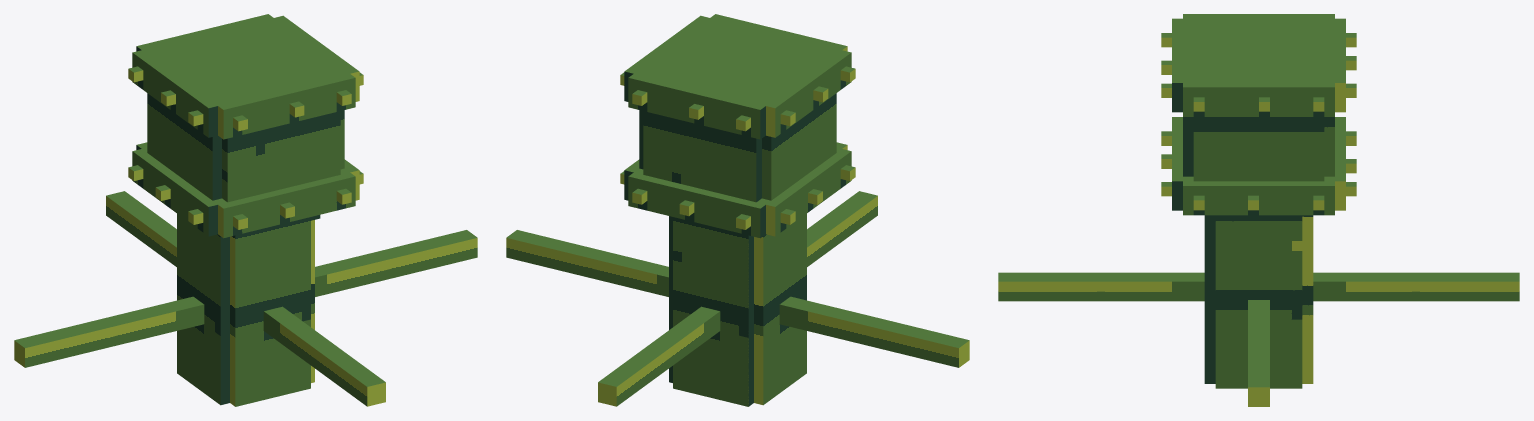
The model's file is sewer_pivot_topao.fezao.glb.
The picture shows the model from 3 angles, left to right: view 1: azimuth 30°, elevation 25°; view 2: azimuth 150°, elevation 25°; view 3: azimuth 270°, elevation 25°; orthographic projection.
Visible parts, largest first — view 1: SEWER_PIVOT_TOPAO; view 2: SEWER_PIVOT_TOPAO; view 3: SEWER_PIVOT_TOPAO.
Boxes of the visible parts, x1,y1,x2,y2 form: SEWER_PIVOT_TOPAO: (14,14,477,406); SEWER_PIVOT_TOPAO: (506,14,969,406); SEWER_PIVOT_TOPAO: (998,14,1519,406).
Size of the model in its own units: 3 by 2 by 3.
Materials: 1 (1 with a texture image).
